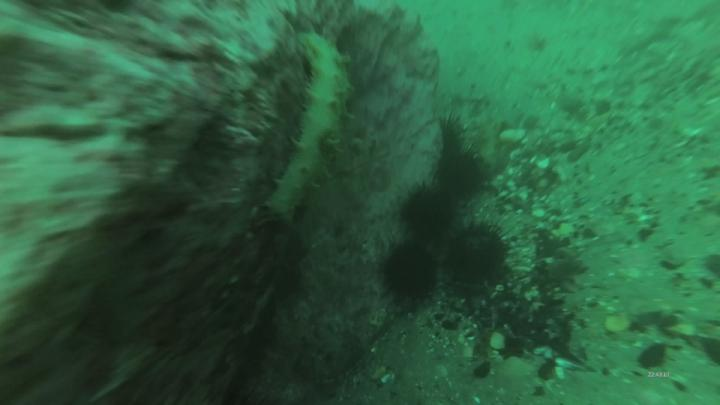echinus: (444, 218, 509, 288), (377, 241, 441, 310), (401, 177, 455, 243), (436, 148, 490, 204), (432, 114, 471, 166)
holothurian: (252, 27, 355, 227)
